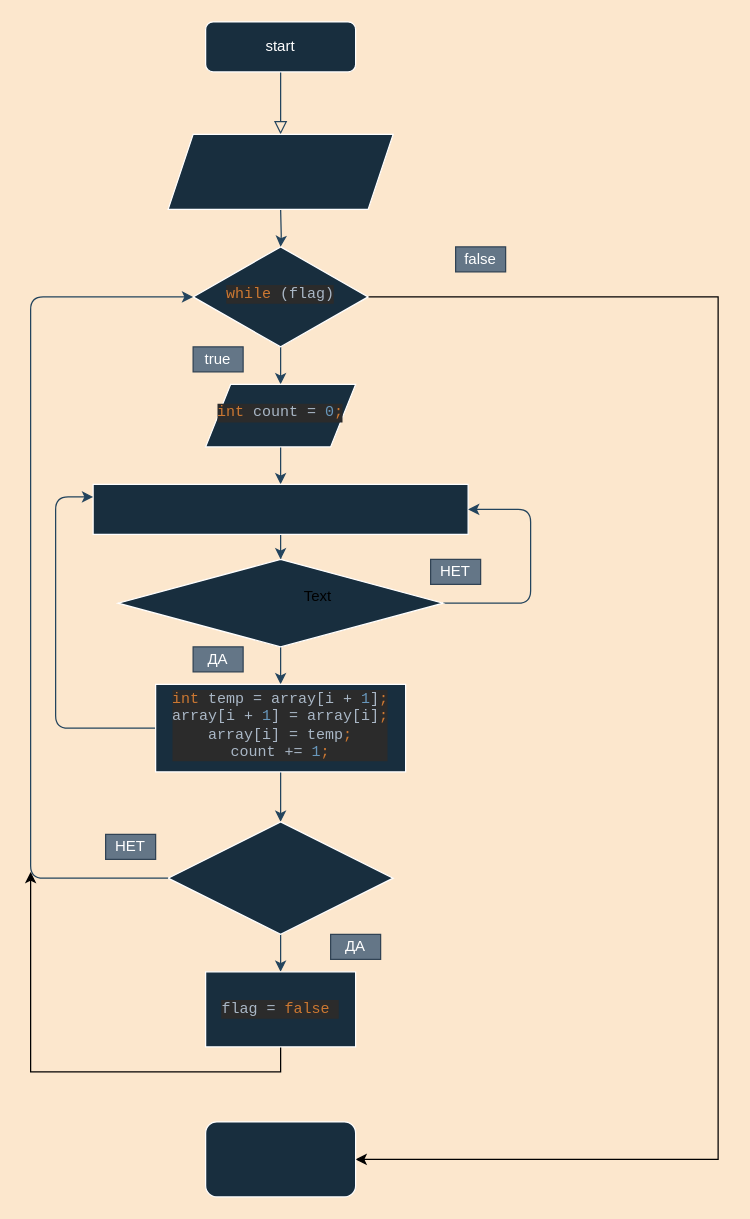
The diagram is 750 pixels wide and 1219 high, and some of its shapes have lost their labels. The shapes that lost their labels are listed below. From the top down, each one's box as (x1, y1, x2, y2) in pixels, then its label:
(167, 133, 393, 209): boolean flag = true; int [] array
(92, 483, 468, 534): for ( int i = 0 ; i < array. length - 1 ; i++)
(117, 558, 443, 647): if (array[i] > array[i + 1 ])
(167, 821, 393, 934): if (count == 0 )
(204, 1121, 356, 1197): end
